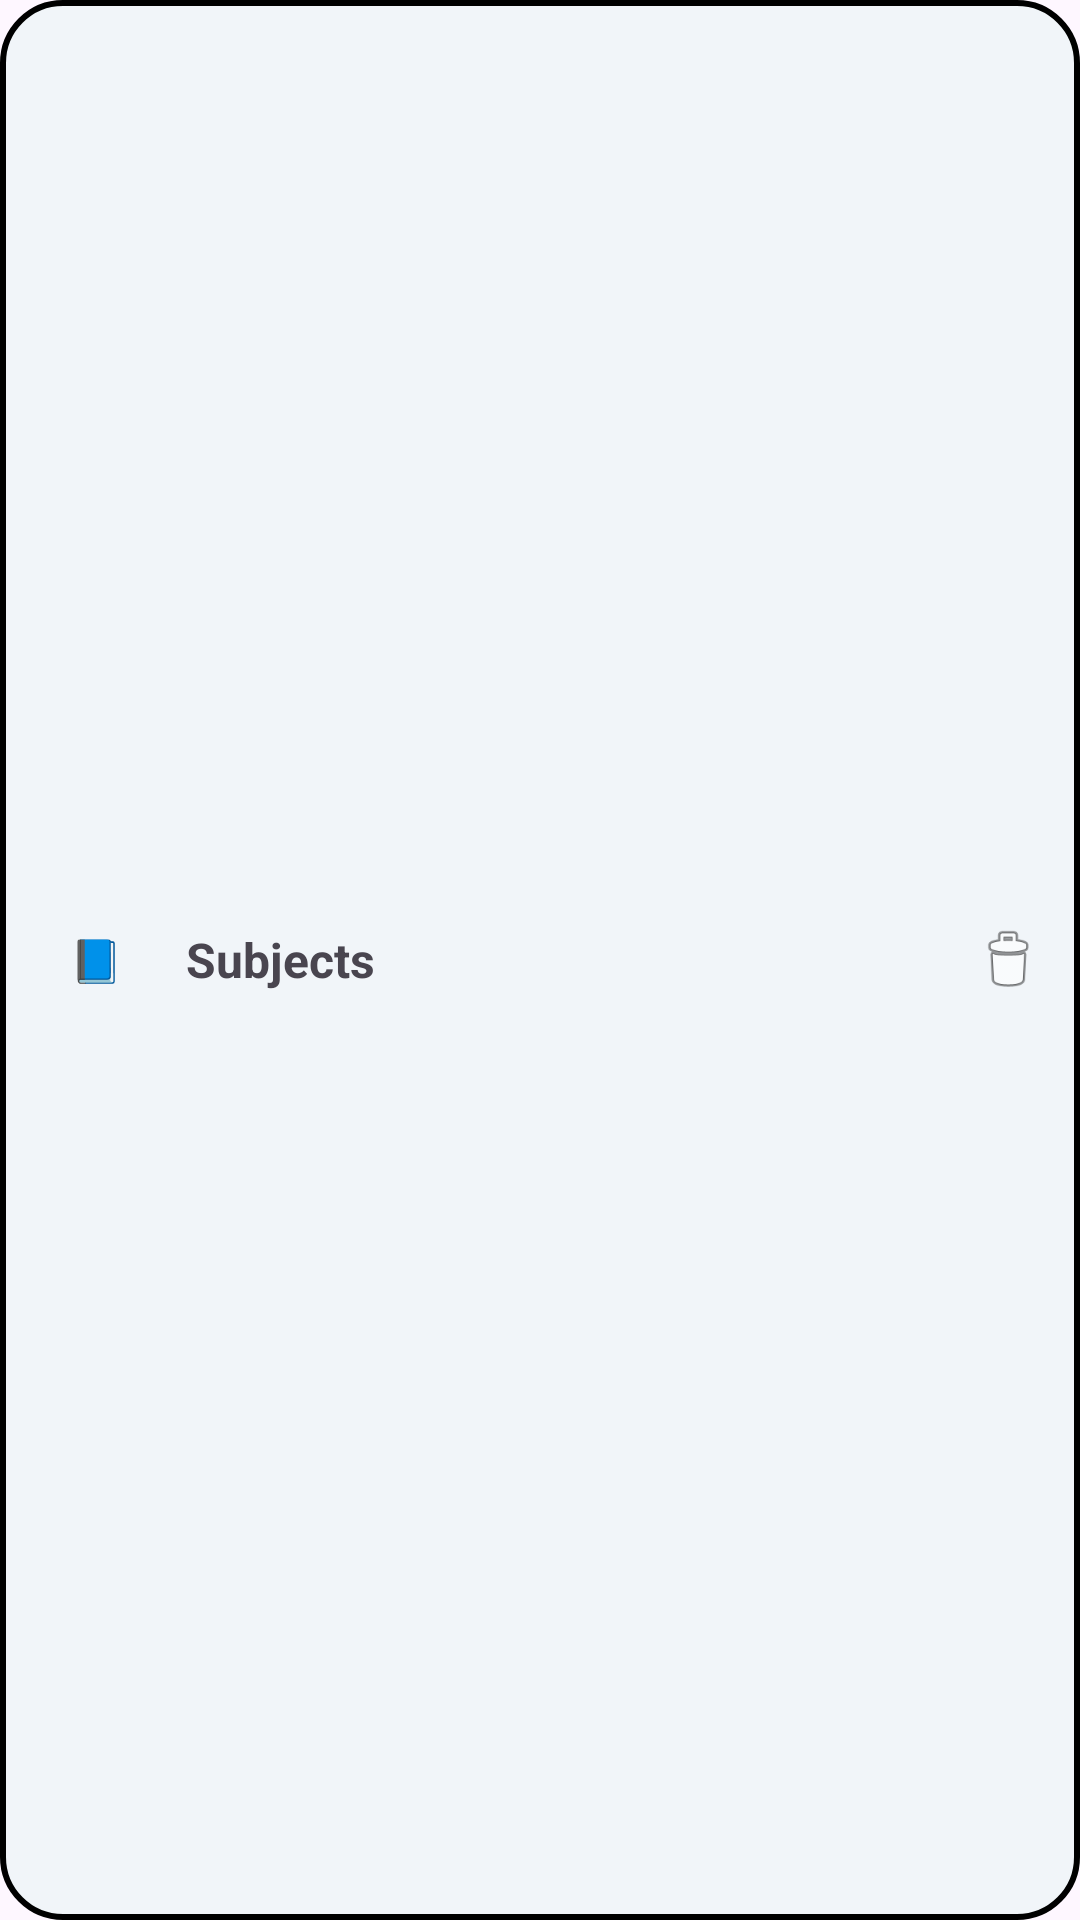

Where to tap for icons on this 1080w x 1920h app screen, as (x=x, y=y):
delete: (x=1008, y=959)
